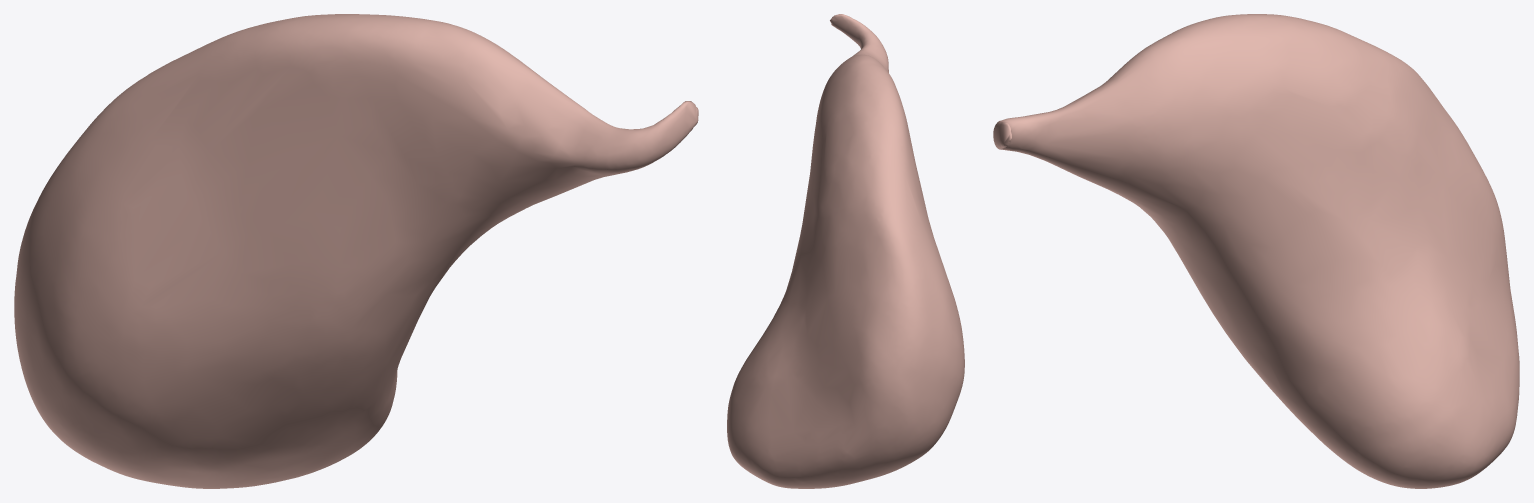
The model's file is upperlimb__organs.225a8fd58f.glb.
3 renders of one model, left to right at view 1: azimuth 30°, elevation 25°; view 2: azimuth 150°, elevation 25°; view 3: azimuth 270°, elevation 25°, orthographic. The views are drawn at different scales.
Parts seen in each view (by area): view 1: FMA7202; view 2: FMA7202; view 3: FMA7202.
Boxes of the visible parts, x1,y1,x2,y2 form: FMA7202: (14,14,698,488); FMA7202: (727,14,964,488); FMA7202: (993,14,1519,488).
Size of the model in its own units: 35.88 by 43.54 by 46.04.
